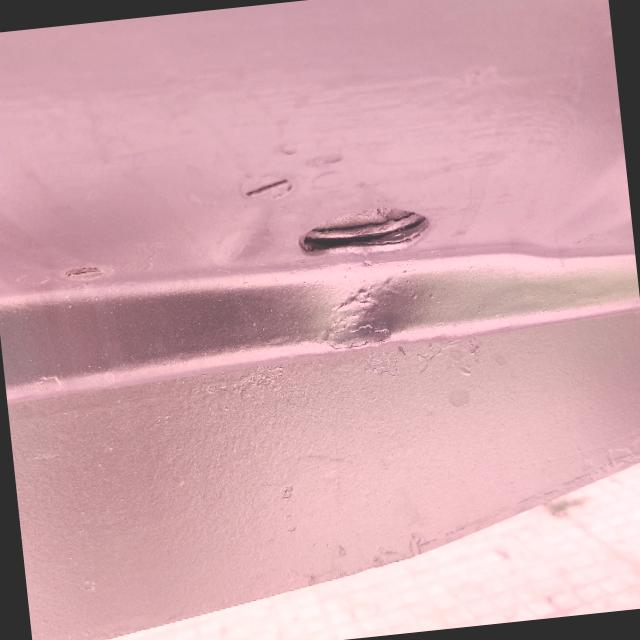dent: (292, 252, 436, 380)
